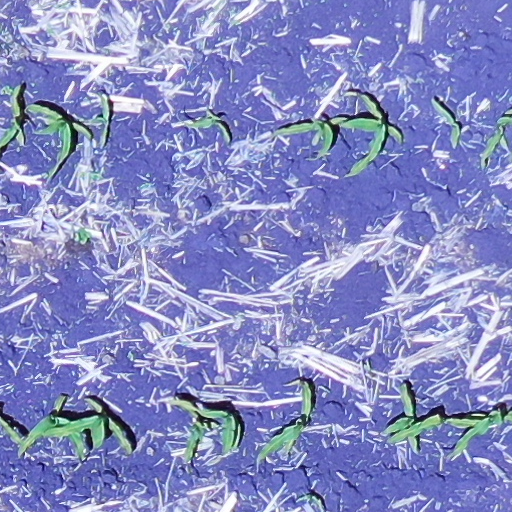planta: (337, 94, 402, 174), (24, 103, 91, 178), (258, 378, 313, 460), (53, 398, 134, 452), (167, 396, 220, 462), (19, 413, 87, 460), (274, 115, 348, 155), (388, 414, 485, 442), (384, 383, 418, 450), (199, 407, 239, 455), (183, 111, 230, 139), (87, 95, 114, 143), (434, 99, 462, 144)
